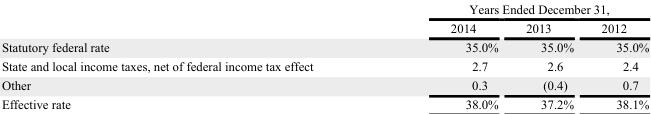table: (0, 1, 648, 111)
table column: (0, 1, 381, 111), (381, 1, 511, 111), (511, 1, 586, 111), (586, 1, 648, 111)
table column header: (0, 1, 648, 37)
table row: (0, 17, 648, 37), (0, 37, 648, 56), (0, 56, 648, 75), (0, 75, 648, 94), (0, 94, 648, 111), (0, 1, 648, 17)
table spanning cell: (381, 1, 648, 17)
